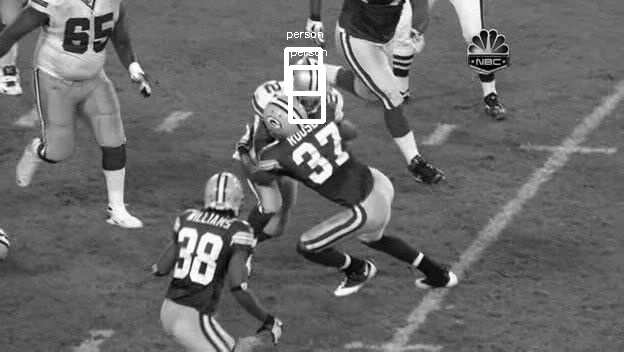person: (289, 59, 328, 109), (288, 59, 327, 109), (290, 59, 329, 109), (289, 58, 328, 108), (289, 60, 328, 110)
target_negative: (59, 3, 478, 260), (450, 14, 488, 136), (480, 218, 609, 228), (415, 196, 432, 232), (326, 309, 405, 311)
